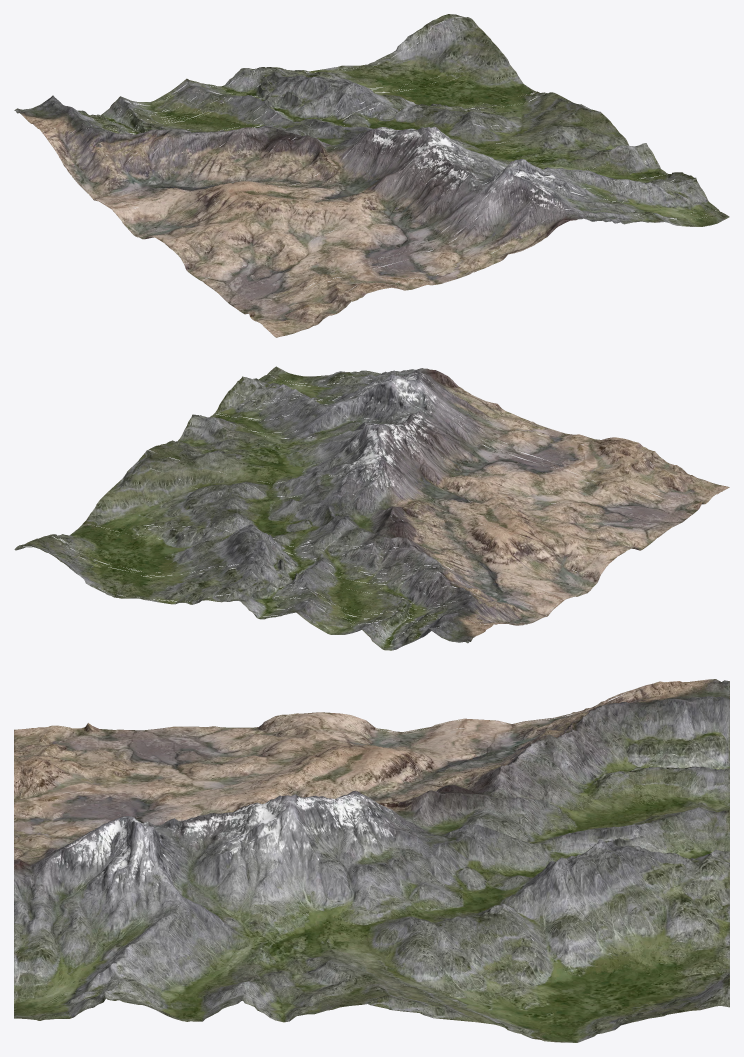
The model's file is mountain_range_01-lo.glb.
The picture shows the model from 3 angles, top to bottom: view 1: azimuth 30°, elevation 25°; view 2: azimuth 150°, elevation 25°; view 3: azimuth 270°, elevation 25°; orthographic projection. The views are drawn at different scales.
Visible parts, largest first — view 1: Object_2; view 2: Object_2; view 3: Object_2.
Part boxes in pixels (left/top/right/bottom): Object_2: left=14, top=14, right=729, bottom=337; Object_2: left=14, top=366, right=729, bottom=650; Object_2: left=14, top=679, right=729, bottom=1042.
Bounding box in the file's own units: 1 × 0.174 × 1.
Materials: 1 (1 with a texture image).
